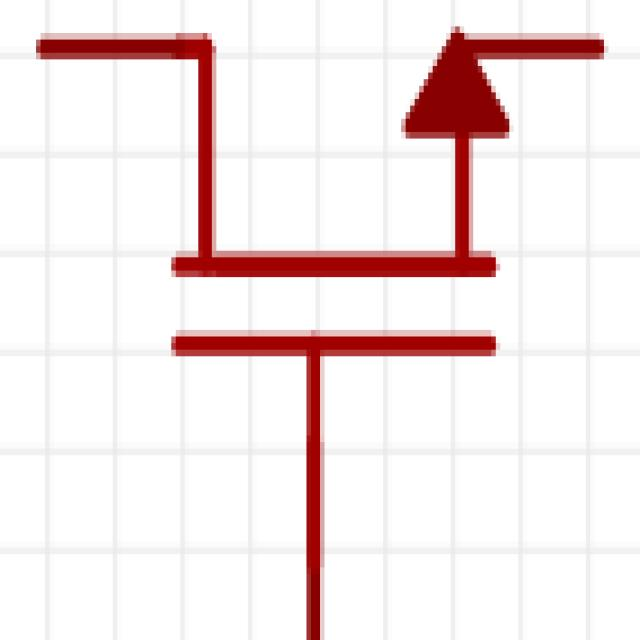nmos: (24, 14, 632, 636)
